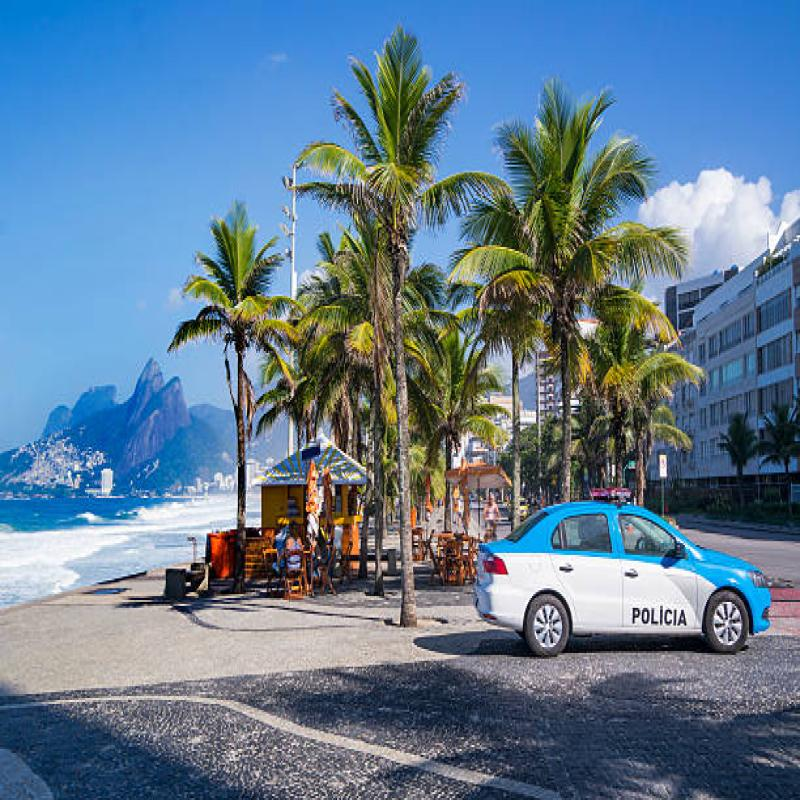AmbulanceSiren: (568, 467, 642, 521)
